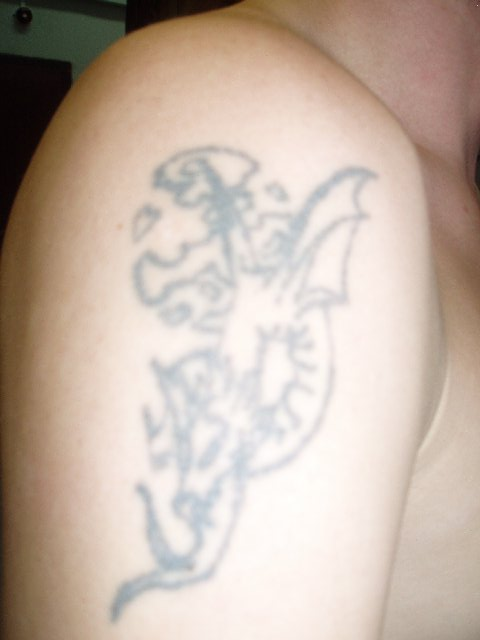tatu6_drakon: (97, 104, 428, 616)
